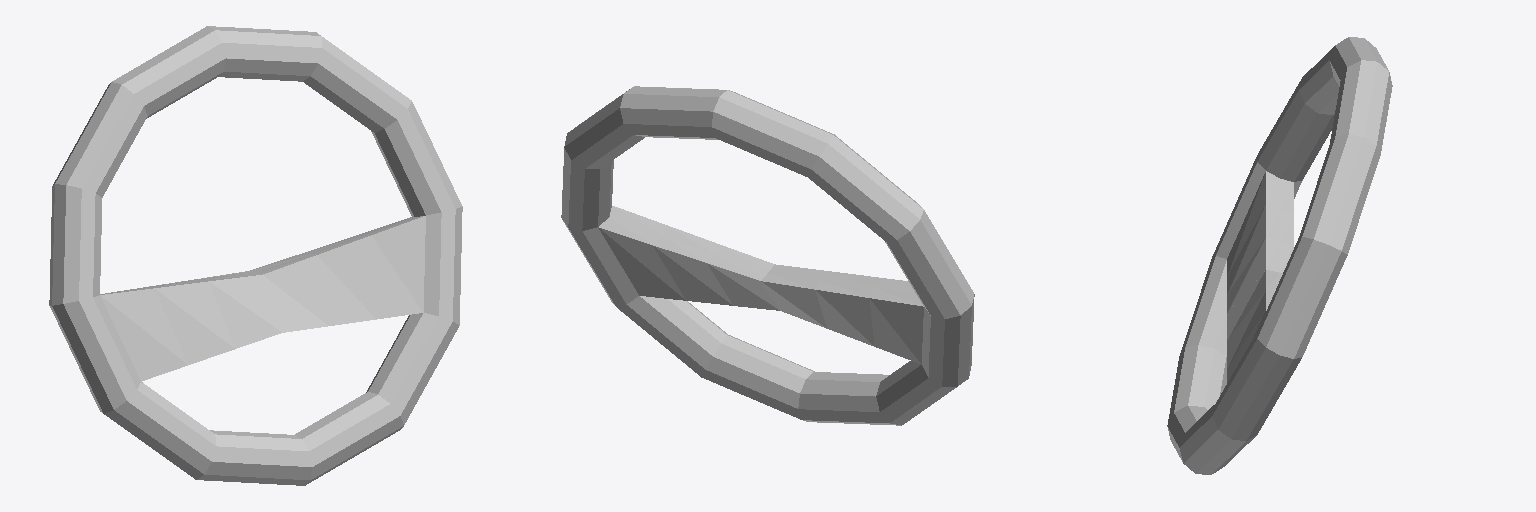
The model's file is Steeringwheel01.obj.
3 renders of one model, left to right at view 1: azimuth 30°, elevation 25°; view 2: azimuth 150°, elevation 25°; view 3: azimuth 270°, elevation 25°, orthographic.
Parts seen in each view (by area): view 1: pTorus1 Merged_EVmotorCleaner45:group1; view 2: pTorus1 Merged_EVmotorCleaner45:group1; view 3: pTorus1 Merged_EVmotorCleaner45:group1.
Part boxes in pixels (left/top/right/bottom): pTorus1 Merged_EVmotorCleaner45:group1: left=49, top=26, right=462, bottom=485; pTorus1 Merged_EVmotorCleaner45:group1: left=561, top=86, right=974, bottom=425; pTorus1 Merged_EVmotorCleaner45:group1: left=1167, top=37, right=1392, bottom=474.
Bounding box in the file's own units: 1.43 × 1.32 × 0.6852.